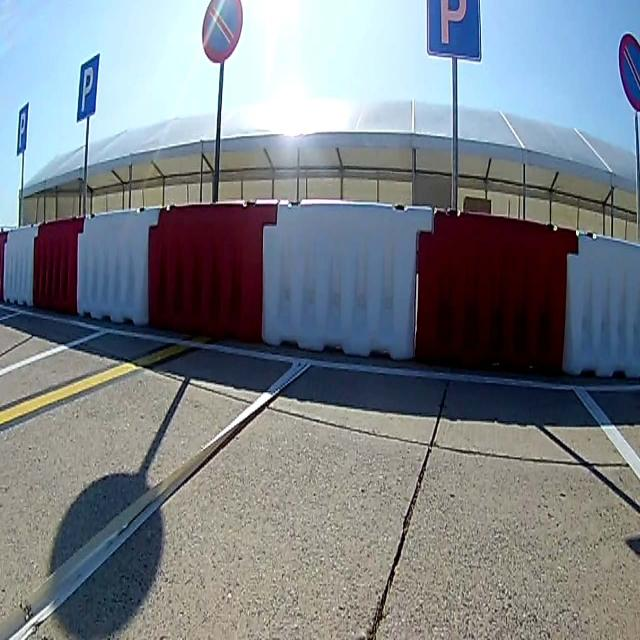park: (430, 1, 482, 60), (77, 54, 97, 118), (16, 105, 28, 152)
parkyasak: (203, 1, 243, 59)
